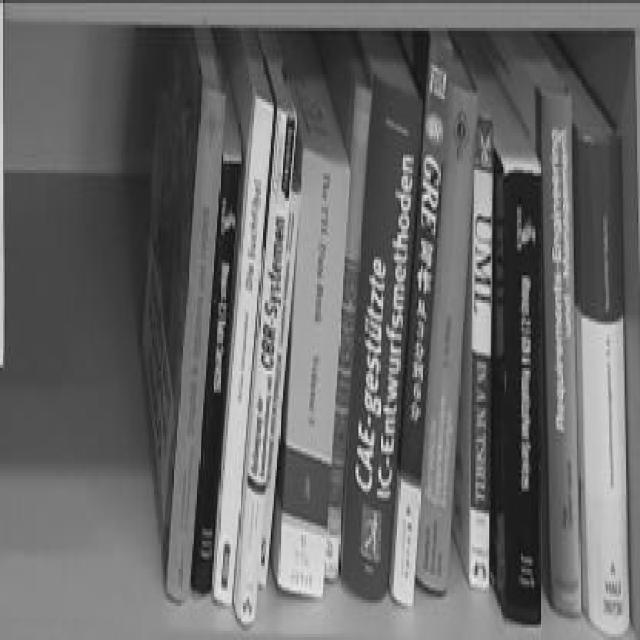book: (348, 77, 424, 604), (284, 145, 357, 635), (165, 27, 224, 617), (574, 132, 631, 633), (530, 75, 580, 618), (495, 160, 547, 622), (475, 158, 489, 602)
